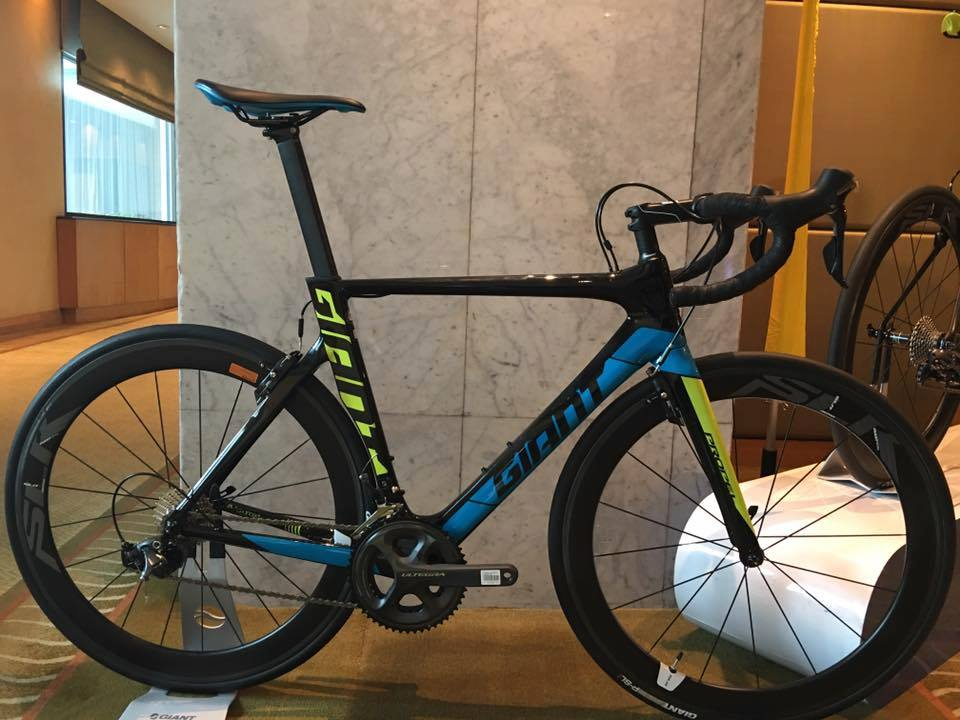bicycle: (19, 62, 958, 709)
